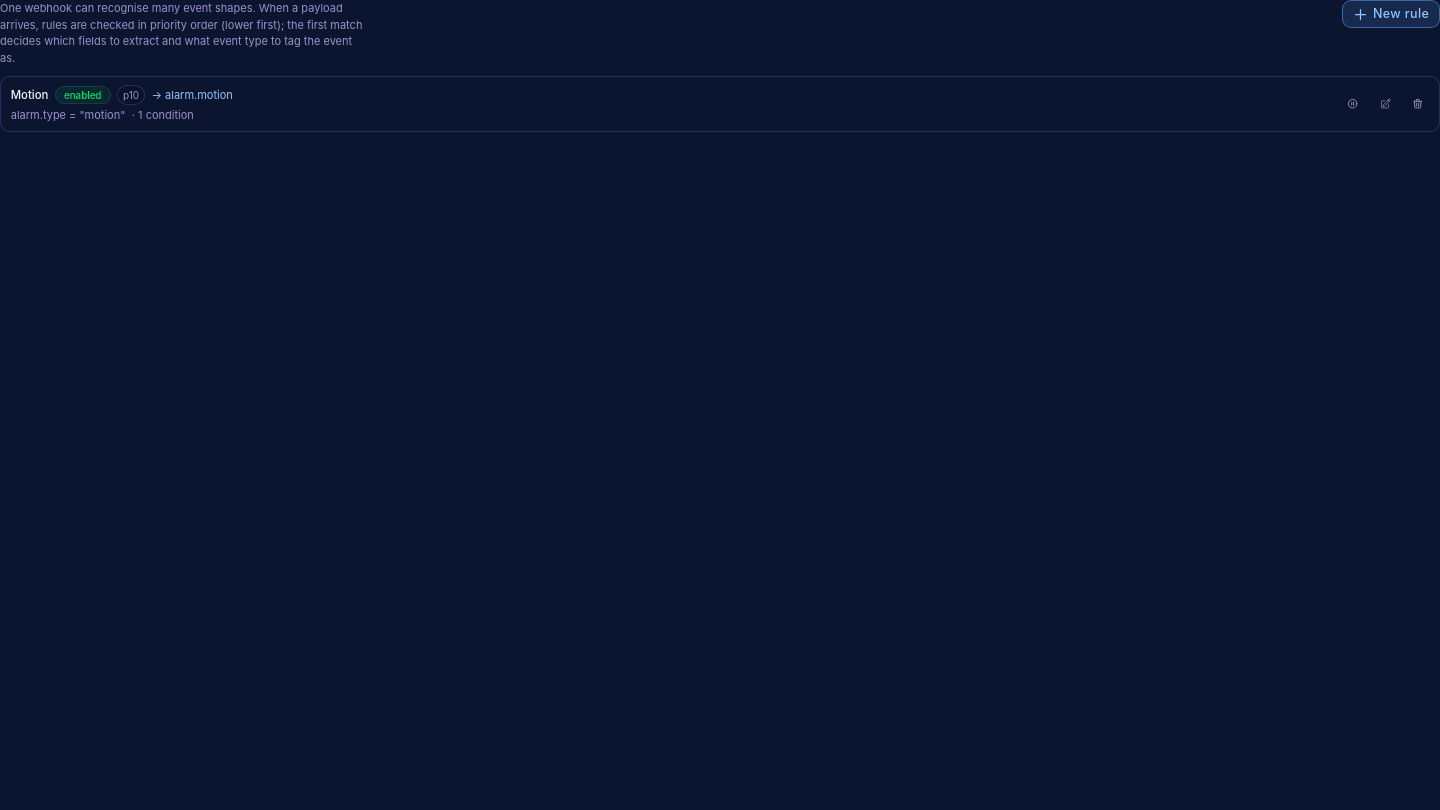
Test: deleting a rule › warns that the event shape stops being recognised, naming the rule
Step 1. Click the button titled "Delete" → (1418, 104), box [1406,93,1429,116]
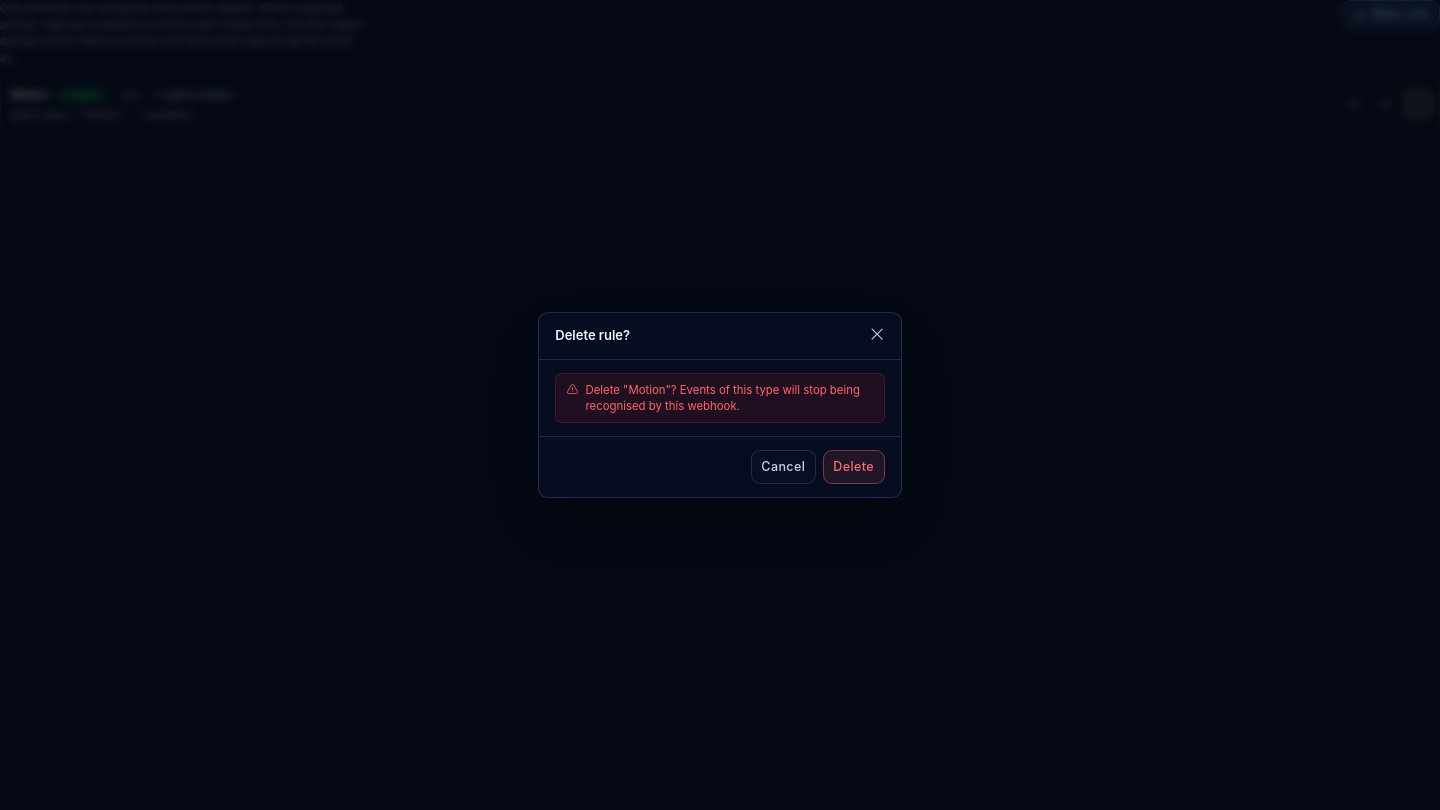
Now the text "Delete \"Motion\"? Events of this type will stop being recognised" is shown, box [586,383,860,413]
